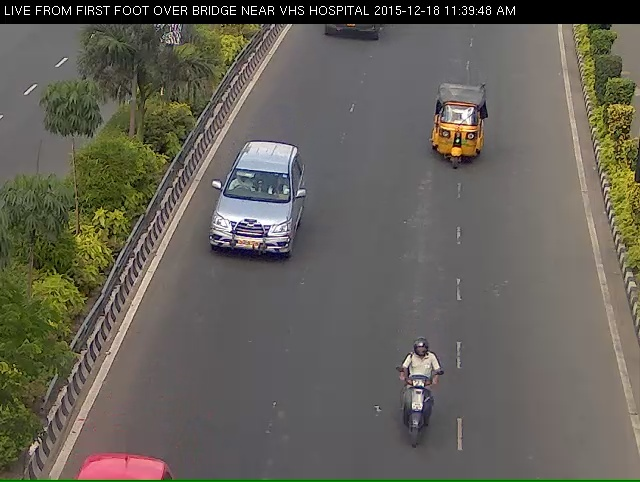Auto: (422, 84, 496, 189)
Car: (218, 146, 288, 278)
Person: (393, 346, 439, 470)
